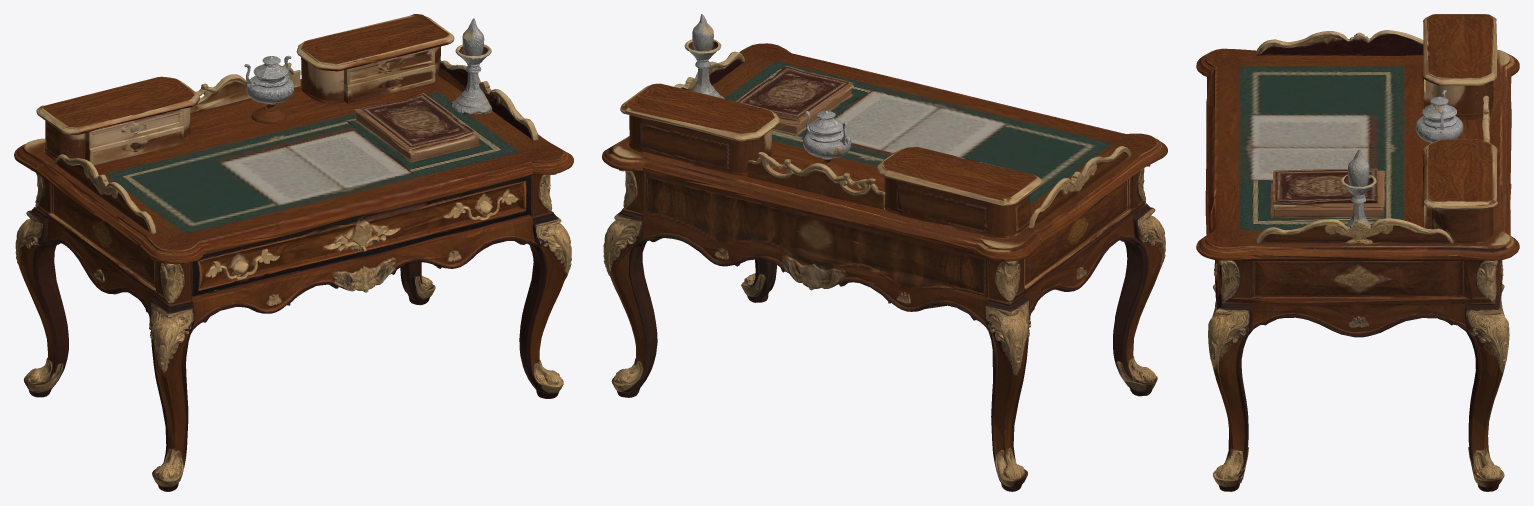
File: dealer_desk.glb
The picture shows the model from 3 angles, left to right: view 1: azimuth 30°, elevation 25°; view 2: azimuth 150°, elevation 25°; view 3: azimuth 270°, elevation 25°; orthographic projection.
Size of the model in its own units: 1.9 by 1.44 by 1.26.
1 material, 1 textured.
